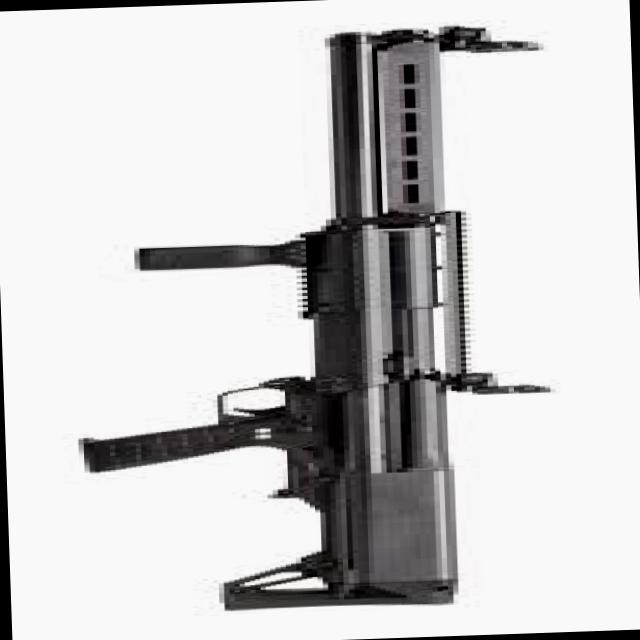long weapon: (21, 4, 574, 635)
